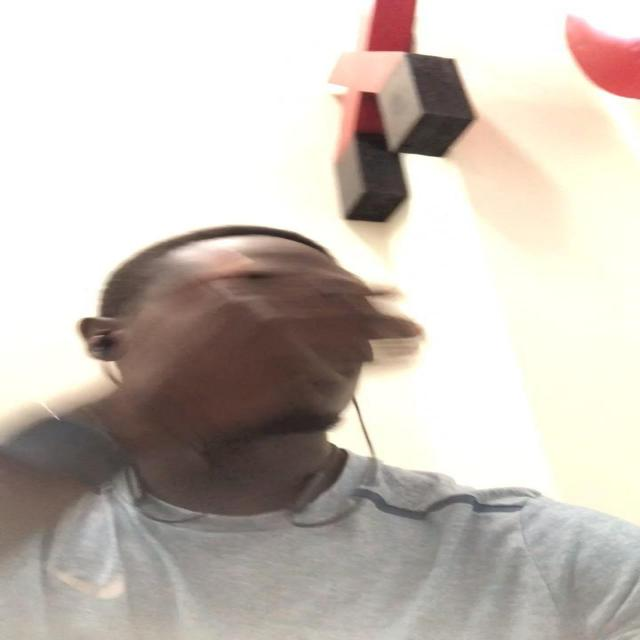face: (104, 247, 368, 431)
